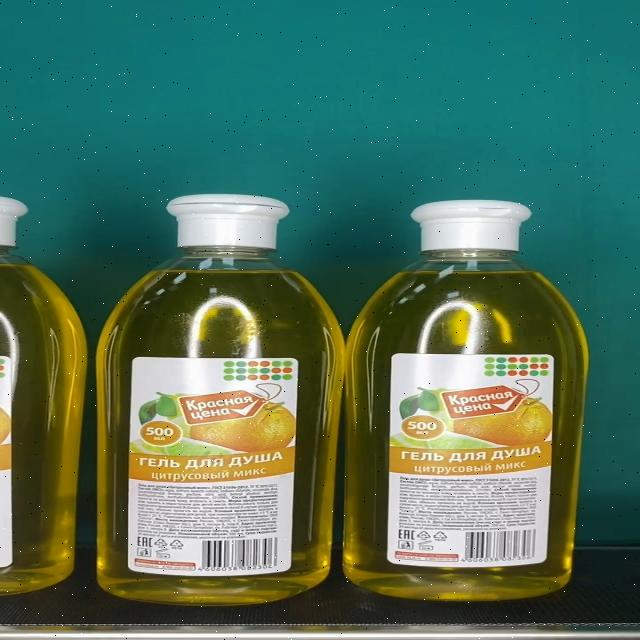Bottle: (96, 194, 347, 606), (345, 200, 589, 602)
Cap: (167, 195, 290, 248), (411, 201, 535, 253)
